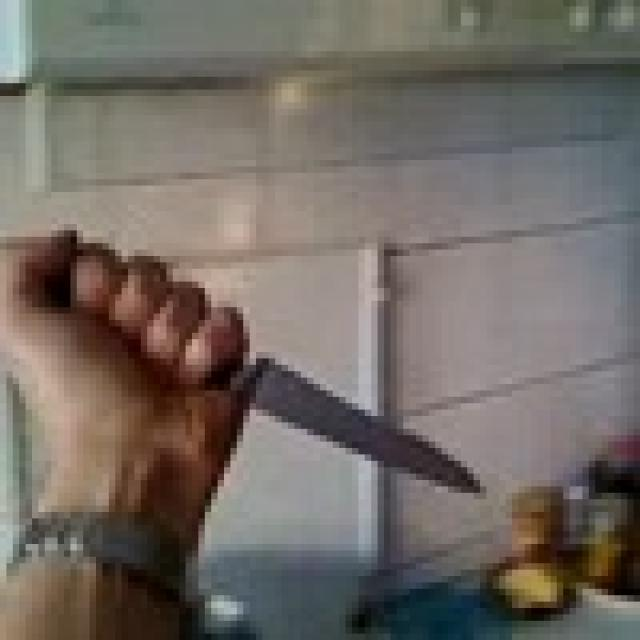Knife: (45, 250, 499, 499)
